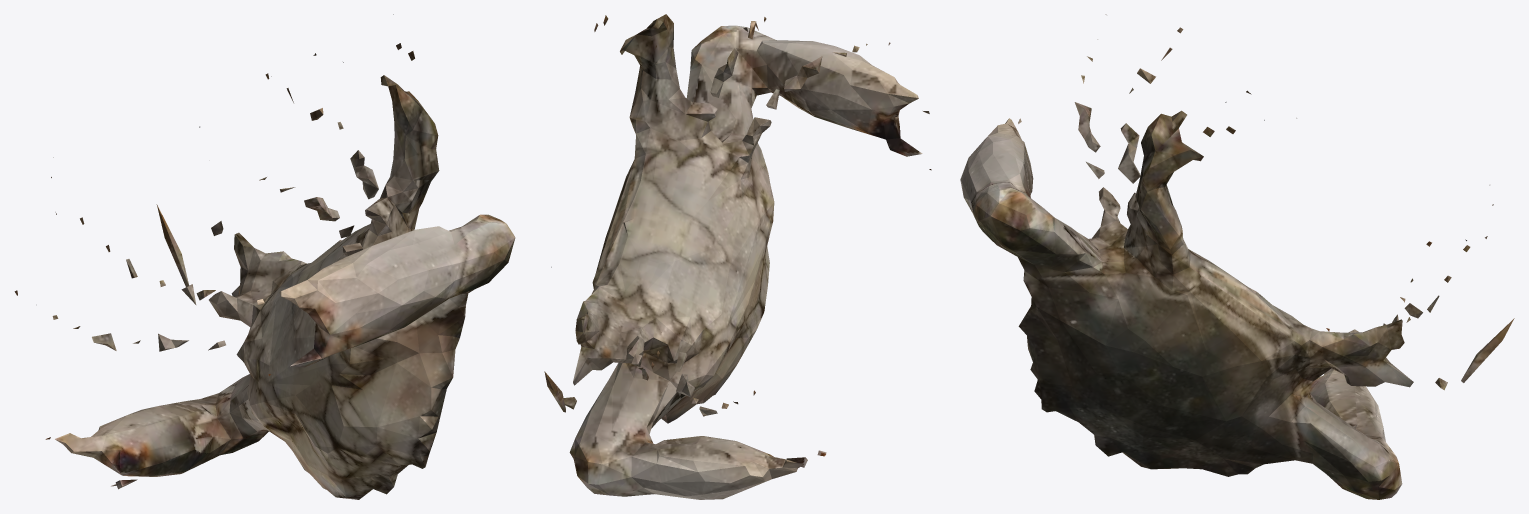
Rendered from crab.glb.
The picture shows the model from 3 angles, left to right: view 1: azimuth 30°, elevation 25°; view 2: azimuth 150°, elevation 25°; view 3: azimuth 270°, elevation 25°; orthographic projection. The views are drawn at different scales.
Visible parts, largest first — view 1: crab_near; view 2: crab_near; view 3: crab_near.
Boxes of the visible parts, x1,y1,x2,y2 form: crab_near: (14, 14, 515, 499); crab_near: (544, 14, 931, 499); crab_near: (960, 14, 1514, 499).
Bounding box in the file's own units: 0.0711 × 0.1004 × 0.1144.
Materials: 1 (1 with a texture image).
